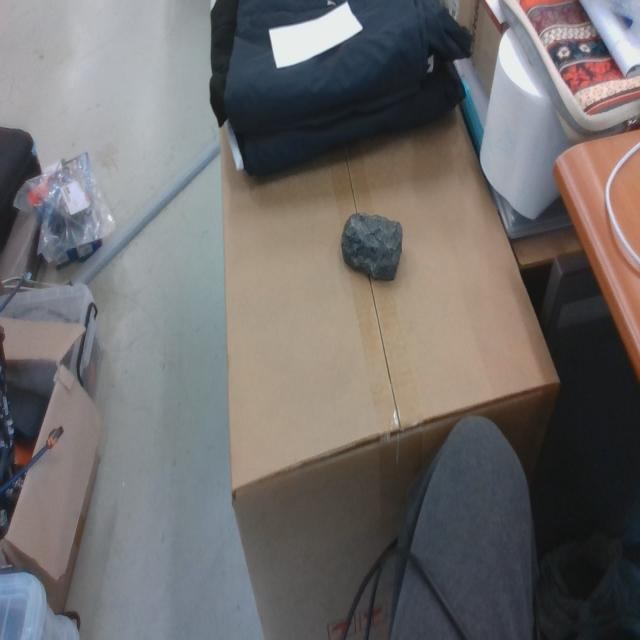stone: (341, 212, 403, 283)
